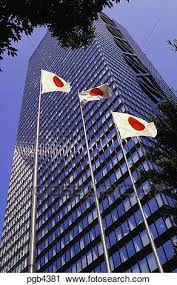Japanese Flag: (110, 110, 160, 142), (37, 68, 71, 96), (77, 83, 112, 101)
